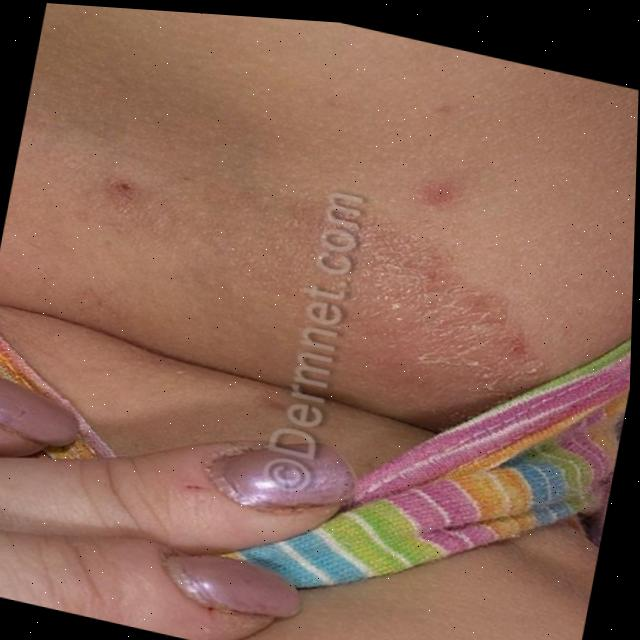Eczema: (265, 220, 535, 410)
